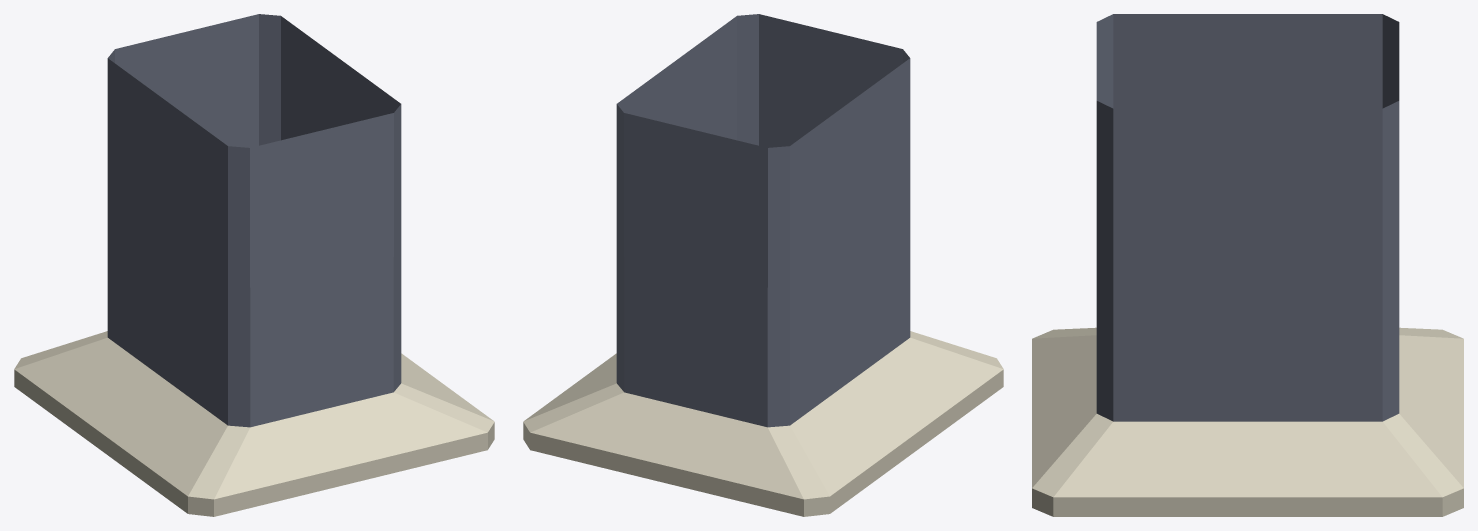
The model's file is AirConditionUnit_01.fbx.
3 views of the same model, side by side, from view 1: azimuth 30°, elevation 25°; view 2: azimuth 150°, elevation 25°; view 3: azimuth 270°, elevation 25° (orthographic). The views are drawn at different scales.
Visible parts, largest first — view 1: AirConditionUnit; view 2: AirConditionUnit; view 3: AirConditionUnit.
Boxes of the visible parts, <box> form: AirConditionUnit: <box>14,14,494,516</box>; AirConditionUnit: <box>523,14,1003,516</box>; AirConditionUnit: <box>1032,14,1463,516</box>.
Size of the model in its own units: 0.9186 by 1 by 1.
